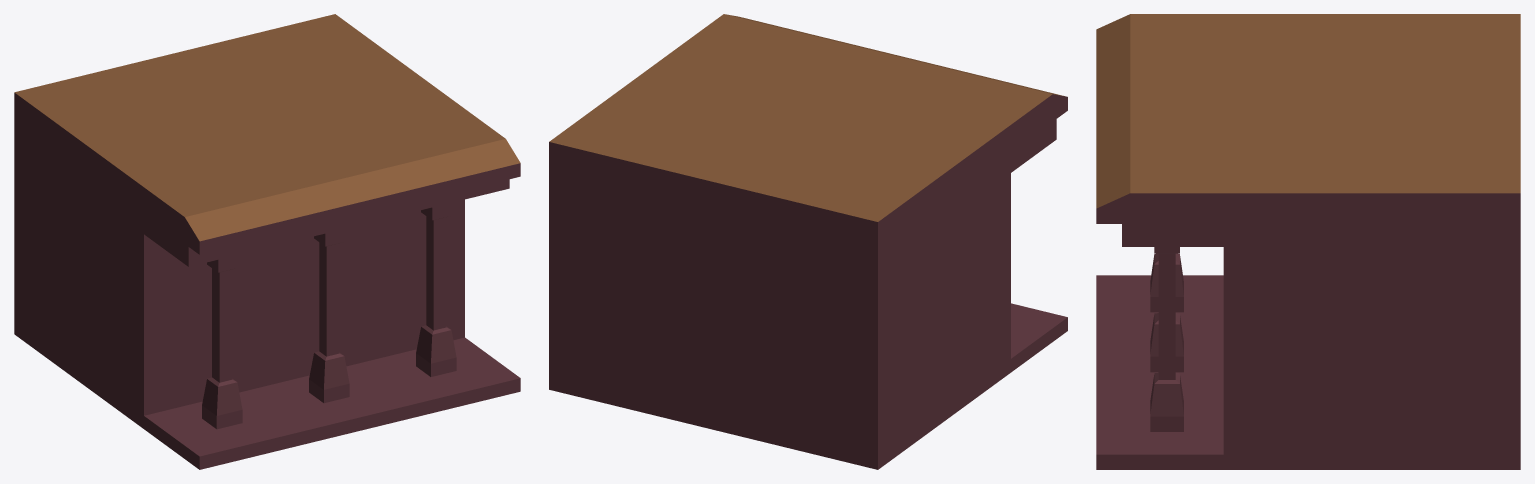
Rendered from hindu-wall-interior-side.fbx.
The picture shows the model from 3 angles, left to right: view 1: azimuth 30°, elevation 25°; view 2: azimuth 150°, elevation 25°; view 3: azimuth 270°, elevation 25°; orthographic projection. The views are drawn at different scales.
Visible parts, largest first — view 1: hindu-wall-interior-side; view 2: hindu-wall-interior-side; view 3: hindu-wall-interior-side.
Boxes of the visible parts, bbox=[...] form: hindu-wall-interior-side: bbox=[14, 14, 520, 469]; hindu-wall-interior-side: bbox=[549, 14, 1067, 469]; hindu-wall-interior-side: bbox=[1096, 14, 1520, 469].
Bounding box in the file's own units: 5 × 3.6 × 5.
